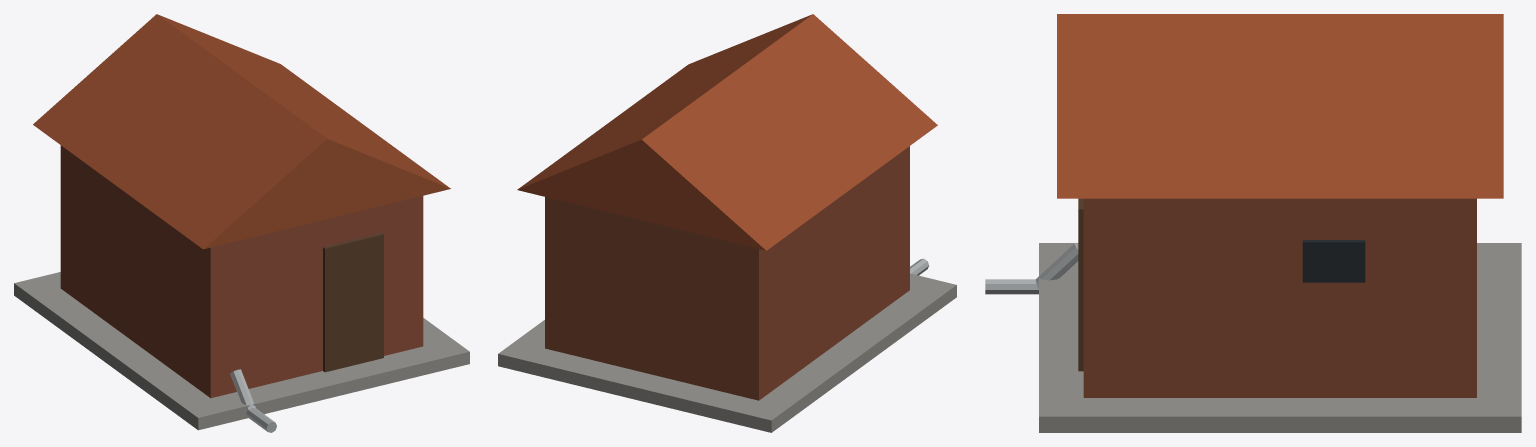
Rendered from Scenery_PumpHouse.fbx.
The picture shows the model from 3 angles, left to right: view 1: azimuth 30°, elevation 25°; view 2: azimuth 150°, elevation 25°; view 3: azimuth 270°, elevation 25°; orthographic projection. The views are drawn at different scales.
Visible parts, largest first — view 1: Scenery_PumpHouse_LOD0; view 2: Scenery_PumpHouse_LOD0; view 3: Scenery_PumpHouse_LOD0.
Part boxes in pixels (x1,y1,x2,y2): Scenery_PumpHouse_LOD0: (14, 14, 469, 432); Scenery_PumpHouse_LOD0: (498, 14, 956, 432); Scenery_PumpHouse_LOD0: (985, 14, 1521, 432).
Size of what is drawn, in the model's own units: 4.6 by 4.11 by 6.
